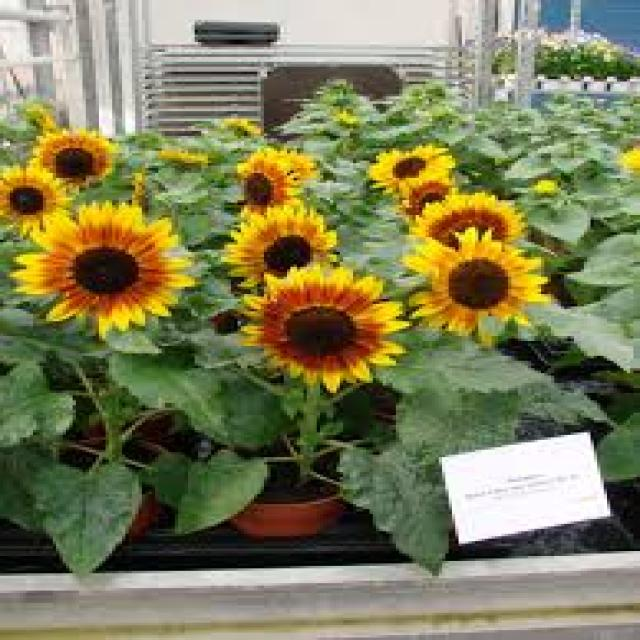sunflower: (2, 196, 214, 343), (231, 258, 416, 400), (397, 225, 561, 343), (204, 200, 350, 292), (407, 190, 534, 260), (0, 157, 77, 241), (359, 140, 475, 194), (28, 130, 122, 190), (224, 154, 300, 219), (384, 180, 470, 222), (215, 113, 262, 140), (616, 142, 640, 175)
